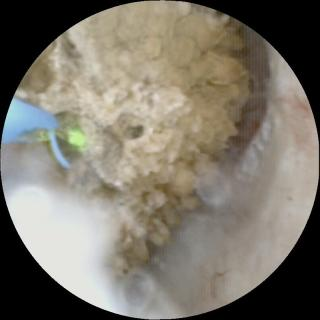fiber: (4, 99, 58, 141)
laser: (69, 132, 86, 147)
stone: (23, 4, 248, 275)
